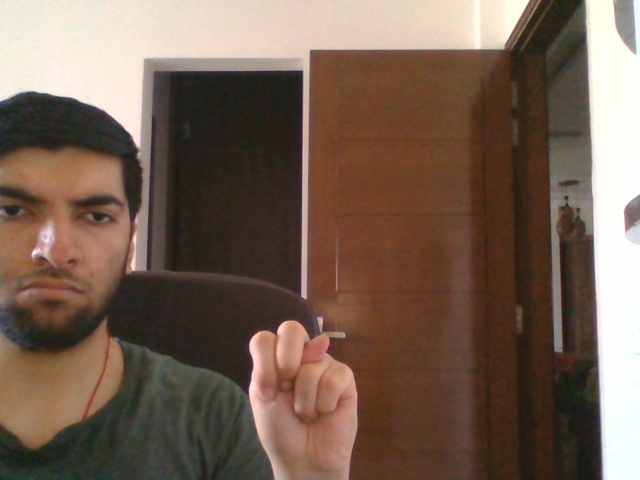LetterN: (247, 319, 359, 479)
